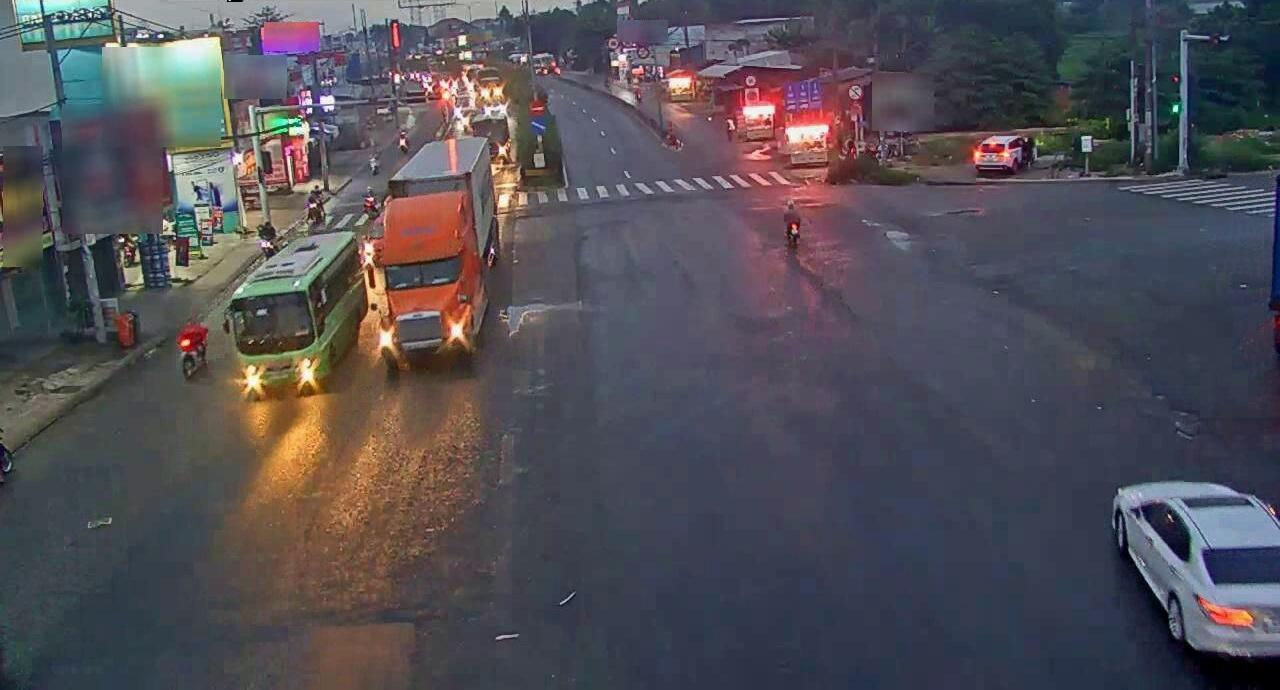xe buyt: (230, 232, 362, 398)
xe container: (379, 135, 502, 372)
xe hoi: (1110, 477, 1280, 658)
xe may: (777, 192, 805, 253)
